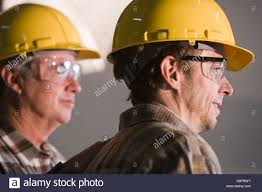Person_wearing_helmet: (103, 0, 251, 88)
